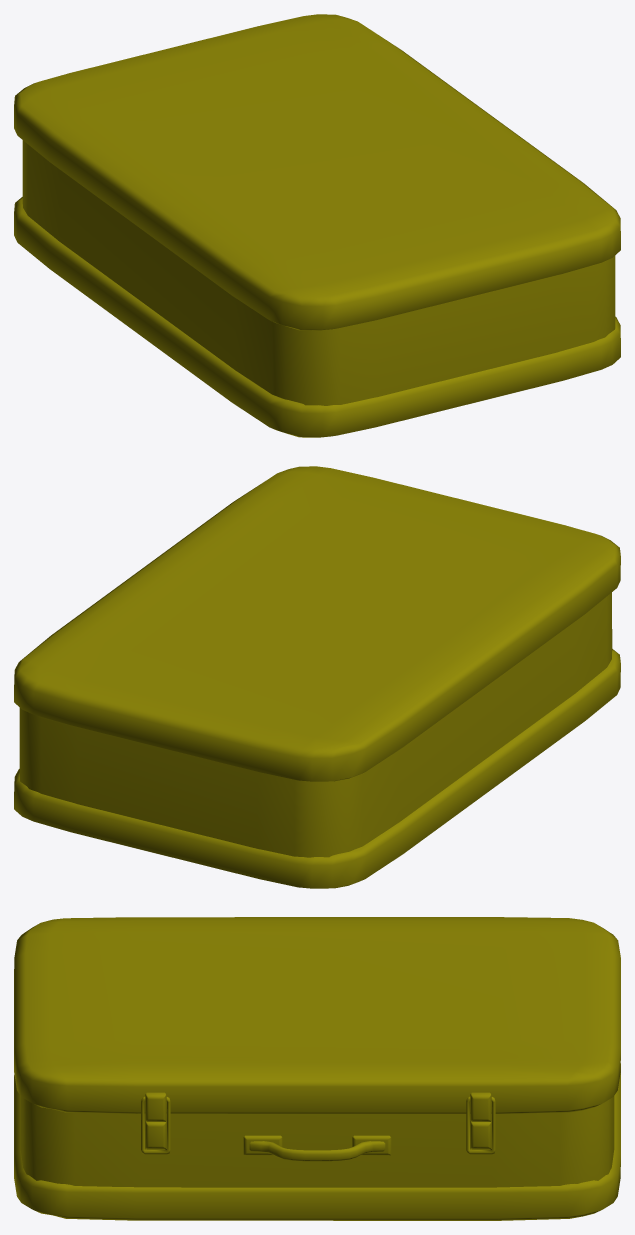
Rendered from SM_Suitcase2.fbx.
3 renders of one model, top to bottom at view 1: azimuth 30°, elevation 25°; view 2: azimuth 150°, elevation 25°; view 3: azimuth 270°, elevation 25°, orthographic.
Visible parts, largest first — view 1: GEO_Suitcase2; view 2: GEO_Suitcase2; view 3: GEO_Suitcase2.
Part boxes in pixels (bbox=[...]): GEO_Suitcase2: bbox=[14, 14, 620, 437]; GEO_Suitcase2: bbox=[14, 466, 620, 888]; GEO_Suitcase2: bbox=[14, 917, 620, 1220].
Bounding box in the file's own units: 85.85 × 32.96 × 122.
